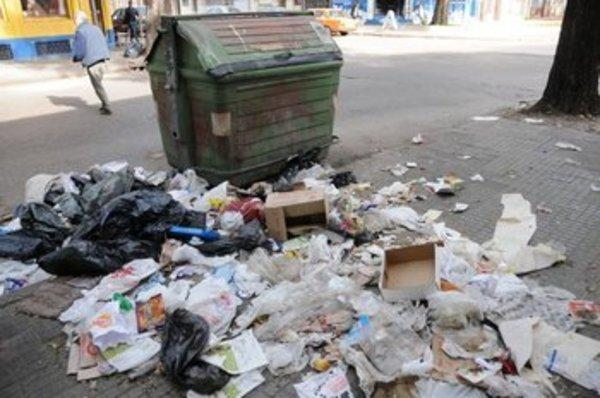Dechets: (0, 156, 599, 397), (0, 189, 193, 276), (160, 309, 232, 395), (382, 240, 446, 304), (266, 189, 332, 243), (469, 113, 545, 129), (556, 136, 584, 159), (409, 133, 426, 147), (591, 182, 600, 194)
Trash: (142, 21, 346, 183)
